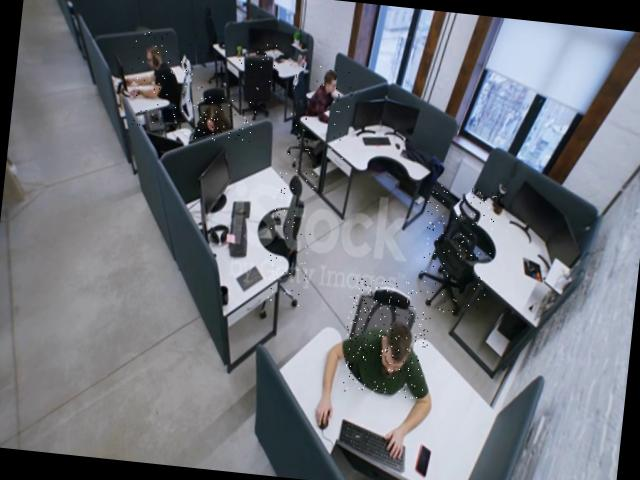empty chair: (415, 184, 497, 318), (262, 158, 318, 318), (230, 36, 280, 123), (193, 0, 236, 81)
occupiedchair: (340, 277, 434, 400), (125, 28, 202, 136), (284, 61, 354, 161), (190, 85, 256, 144)
